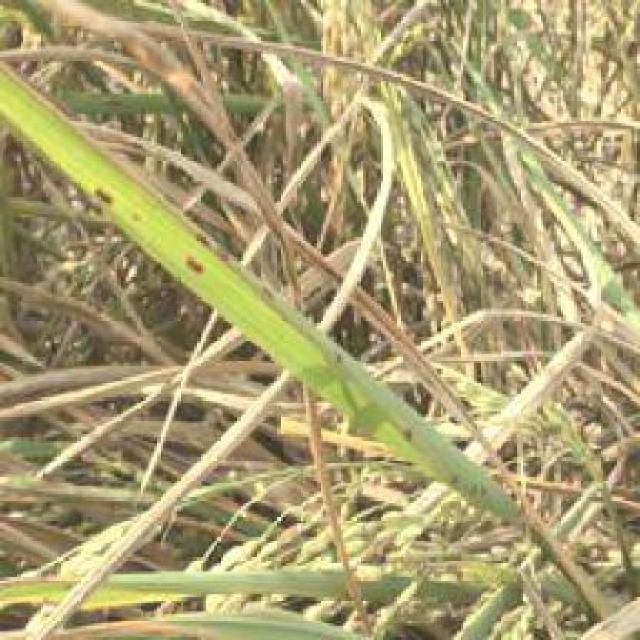Leaf_Blast: (80, 168, 128, 212), (169, 239, 217, 279), (388, 413, 424, 444), (125, 201, 154, 230)
